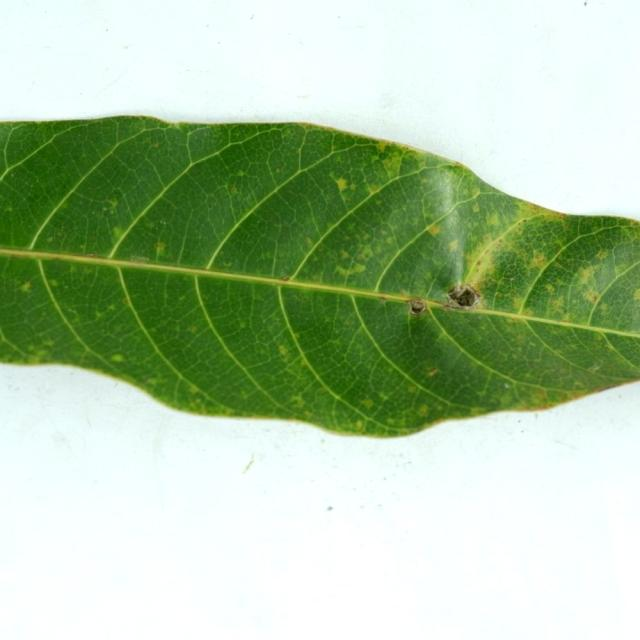Mango: (0, 116, 639, 435)
Powdery_Mildew: (334, 171, 354, 196), (576, 265, 598, 286), (337, 184, 353, 207), (345, 222, 362, 241), (43, 228, 66, 242), (530, 388, 549, 403), (25, 353, 46, 364), (486, 212, 501, 227), (382, 157, 397, 172), (532, 253, 547, 268), (358, 245, 373, 259), (550, 298, 565, 312), (349, 263, 366, 275), (525, 202, 542, 214), (334, 265, 350, 277), (105, 196, 119, 209), (129, 255, 151, 263), (112, 226, 125, 239), (290, 396, 305, 407), (367, 183, 381, 194), (509, 313, 523, 323), (448, 239, 459, 251), (598, 302, 609, 314), (19, 282, 32, 292), (361, 399, 374, 409), (189, 385, 203, 394), (418, 406, 429, 417), (428, 226, 440, 236), (376, 142, 388, 152), (596, 249, 608, 259), (471, 187, 481, 199), (304, 236, 314, 248), (372, 153, 384, 163), (588, 363, 601, 372), (110, 354, 124, 362), (339, 250, 350, 260), (278, 346, 288, 356), (48, 278, 59, 287), (36, 350, 47, 359), (193, 398, 204, 407), (427, 368, 438, 377), (386, 417, 397, 426), (147, 377, 159, 385), (544, 284, 554, 293), (188, 325, 198, 334), (472, 202, 480, 213), (154, 242, 165, 250), (454, 161, 466, 168), (355, 420, 364, 429), (409, 385, 419, 393), (43, 339, 54, 346), (229, 186, 238, 194), (523, 309, 532, 317), (96, 311, 106, 318), (239, 320, 247, 328), (374, 198, 382, 206), (425, 271, 433, 279), (237, 170, 246, 177), (107, 304, 116, 311), (223, 261, 232, 268), (3, 206, 13, 212), (305, 410, 313, 417), (428, 274, 436, 281), (635, 289, 640, 300), (150, 142, 159, 148), (281, 275, 290, 281), (378, 296, 387, 302), (123, 298, 130, 305), (494, 292, 502, 298), (558, 213, 566, 219), (498, 239, 504, 247), (592, 295, 598, 302), (46, 237, 53, 242), (476, 260, 481, 266), (504, 383, 510, 388), (583, 2, 587, 7)
